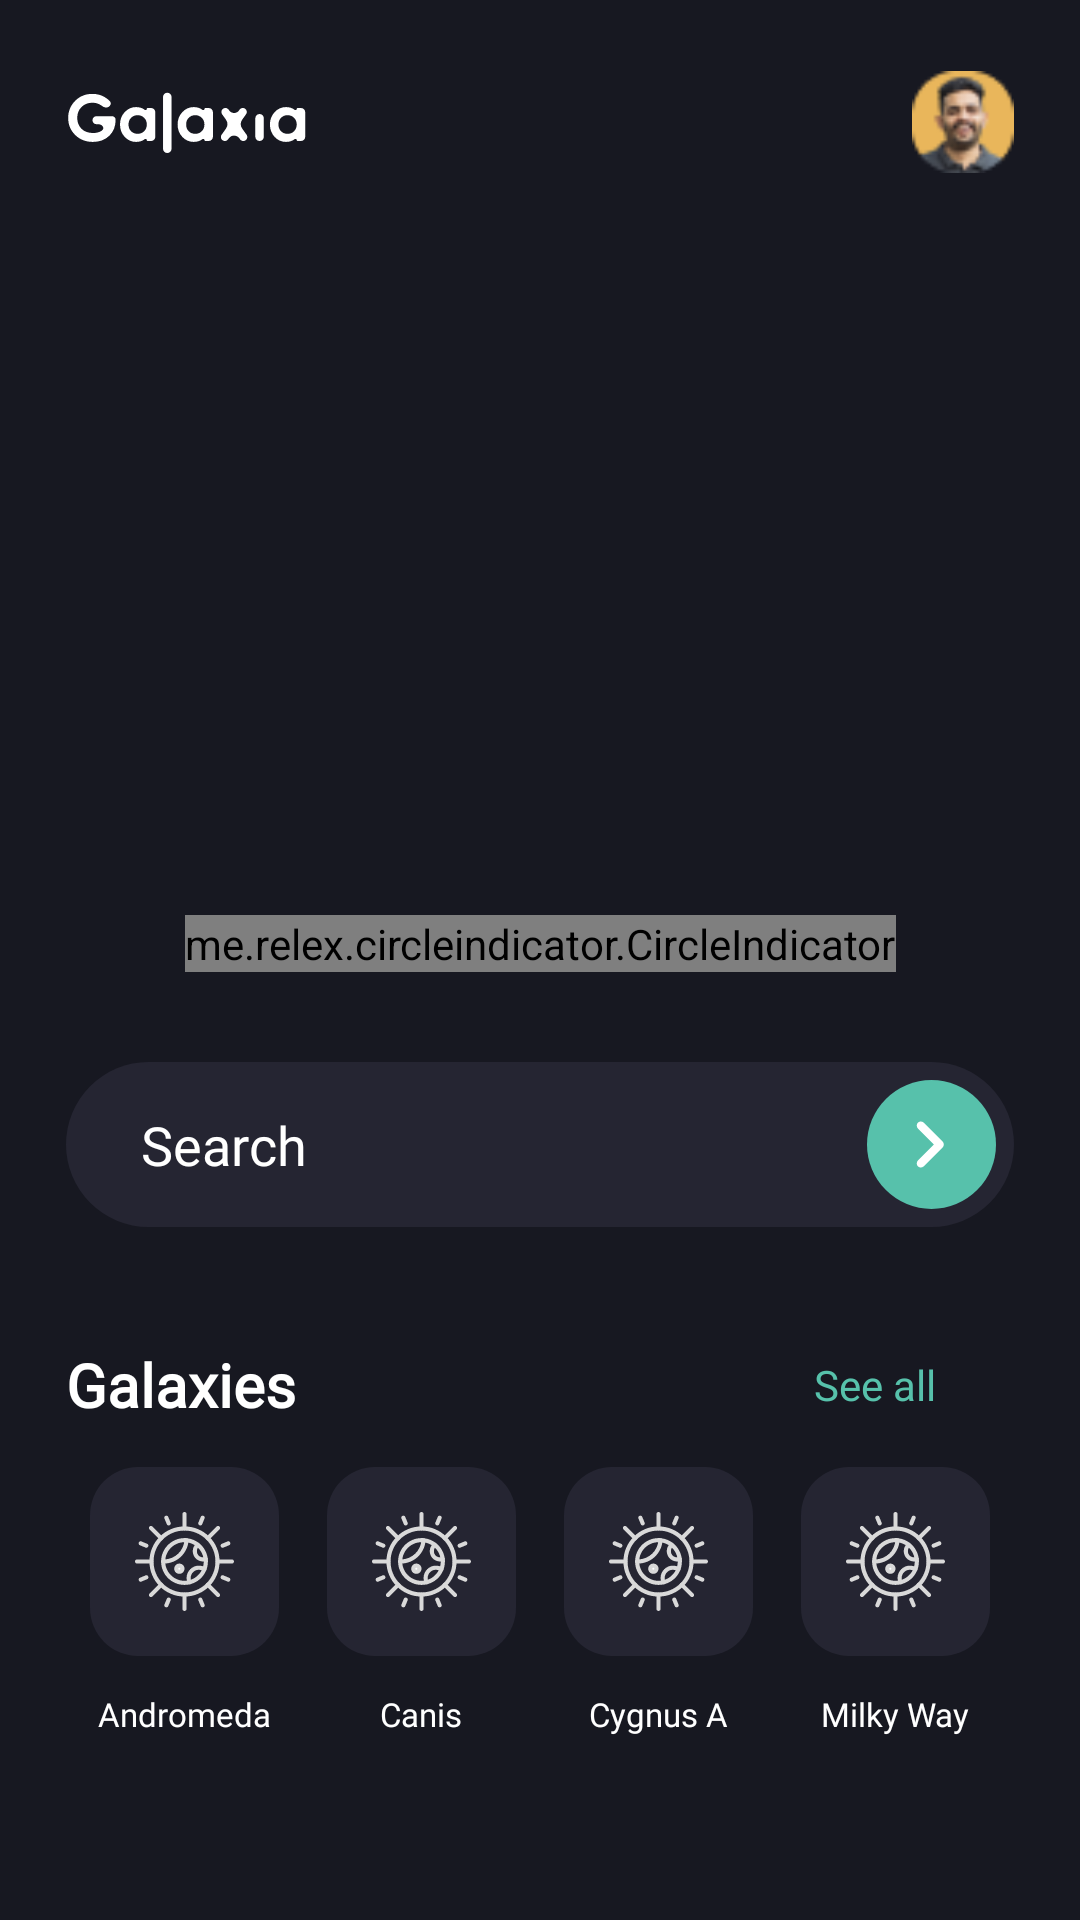

Locate icon controls on the screen. Image size 1080px×1920px, boxes as (x1, y1, x2, y2).
arrow: (867, 1080, 996, 1209)
